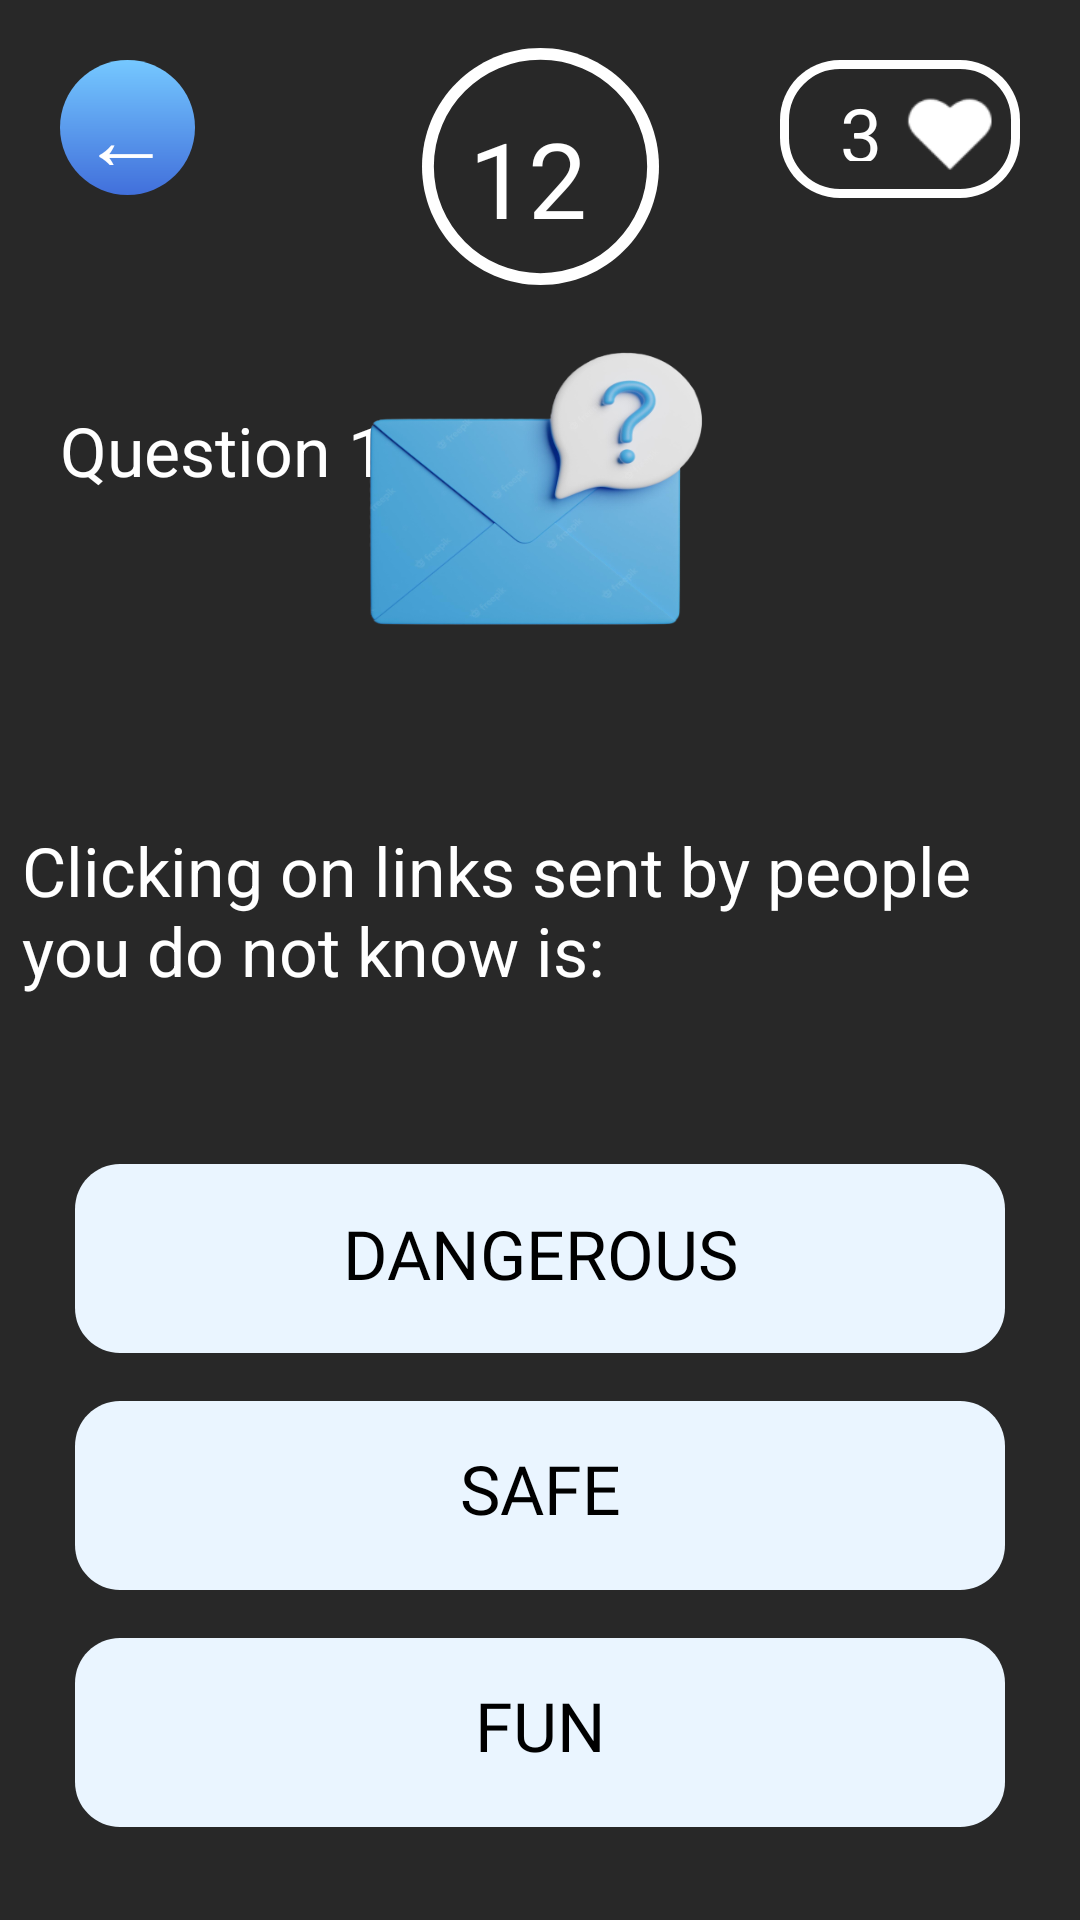

Screen size 1080w x 1920h. Icon name, then its center in pixels as (x=x, y=y):
back: (x=127, y=127)
hearticon: (x=950, y=134)
